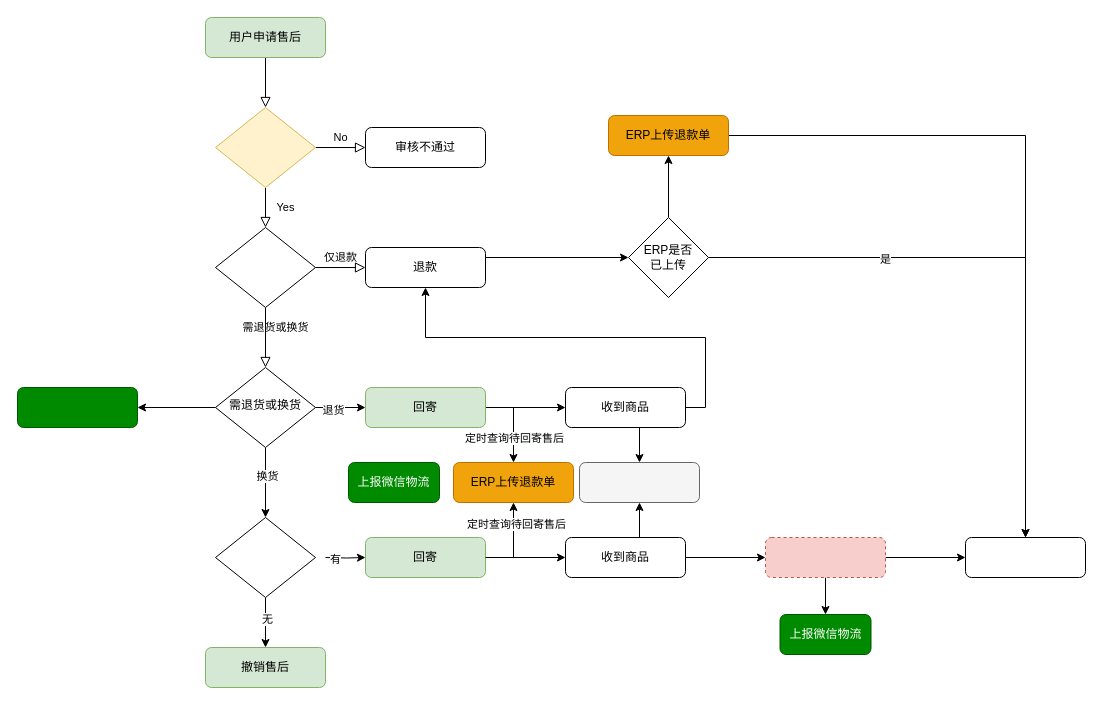
Image size: 1103x705. Some labels were removed from this diagram. Each missing label, with the centre of its shape:
"ERP退货入库" belongs at [639,482].
"发货" belongs at [825,557].
"后台审核" belongs at [265,147].
"完成" belongs at [1025,557].
"微信创建退货单" belongs at [77,407].
"是否有库存" belongs at [265,557].
"退换货" belongs at [265,267].
